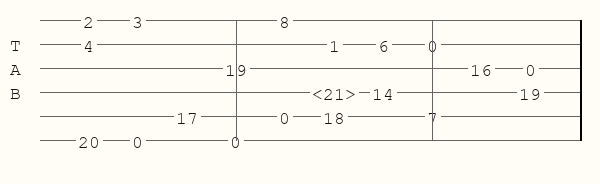0: (132, 133, 147, 148), (230, 133, 245, 148), (279, 109, 294, 124), (427, 37, 442, 52), (525, 61, 540, 76)
1: (329, 37, 344, 52)
14: (372, 85, 398, 100)
16: (470, 61, 496, 76)
17: (176, 109, 202, 124)
18: (323, 109, 349, 124)
19: (225, 61, 251, 76), (519, 85, 545, 100)
2: (83, 13, 98, 28)
20: (78, 133, 104, 148)
3: (132, 13, 147, 28)
4: (83, 37, 98, 52)
6: (378, 37, 393, 52)
7: (427, 109, 442, 124)
8: (279, 13, 294, 28)
harmonic: (312, 85, 360, 100)
